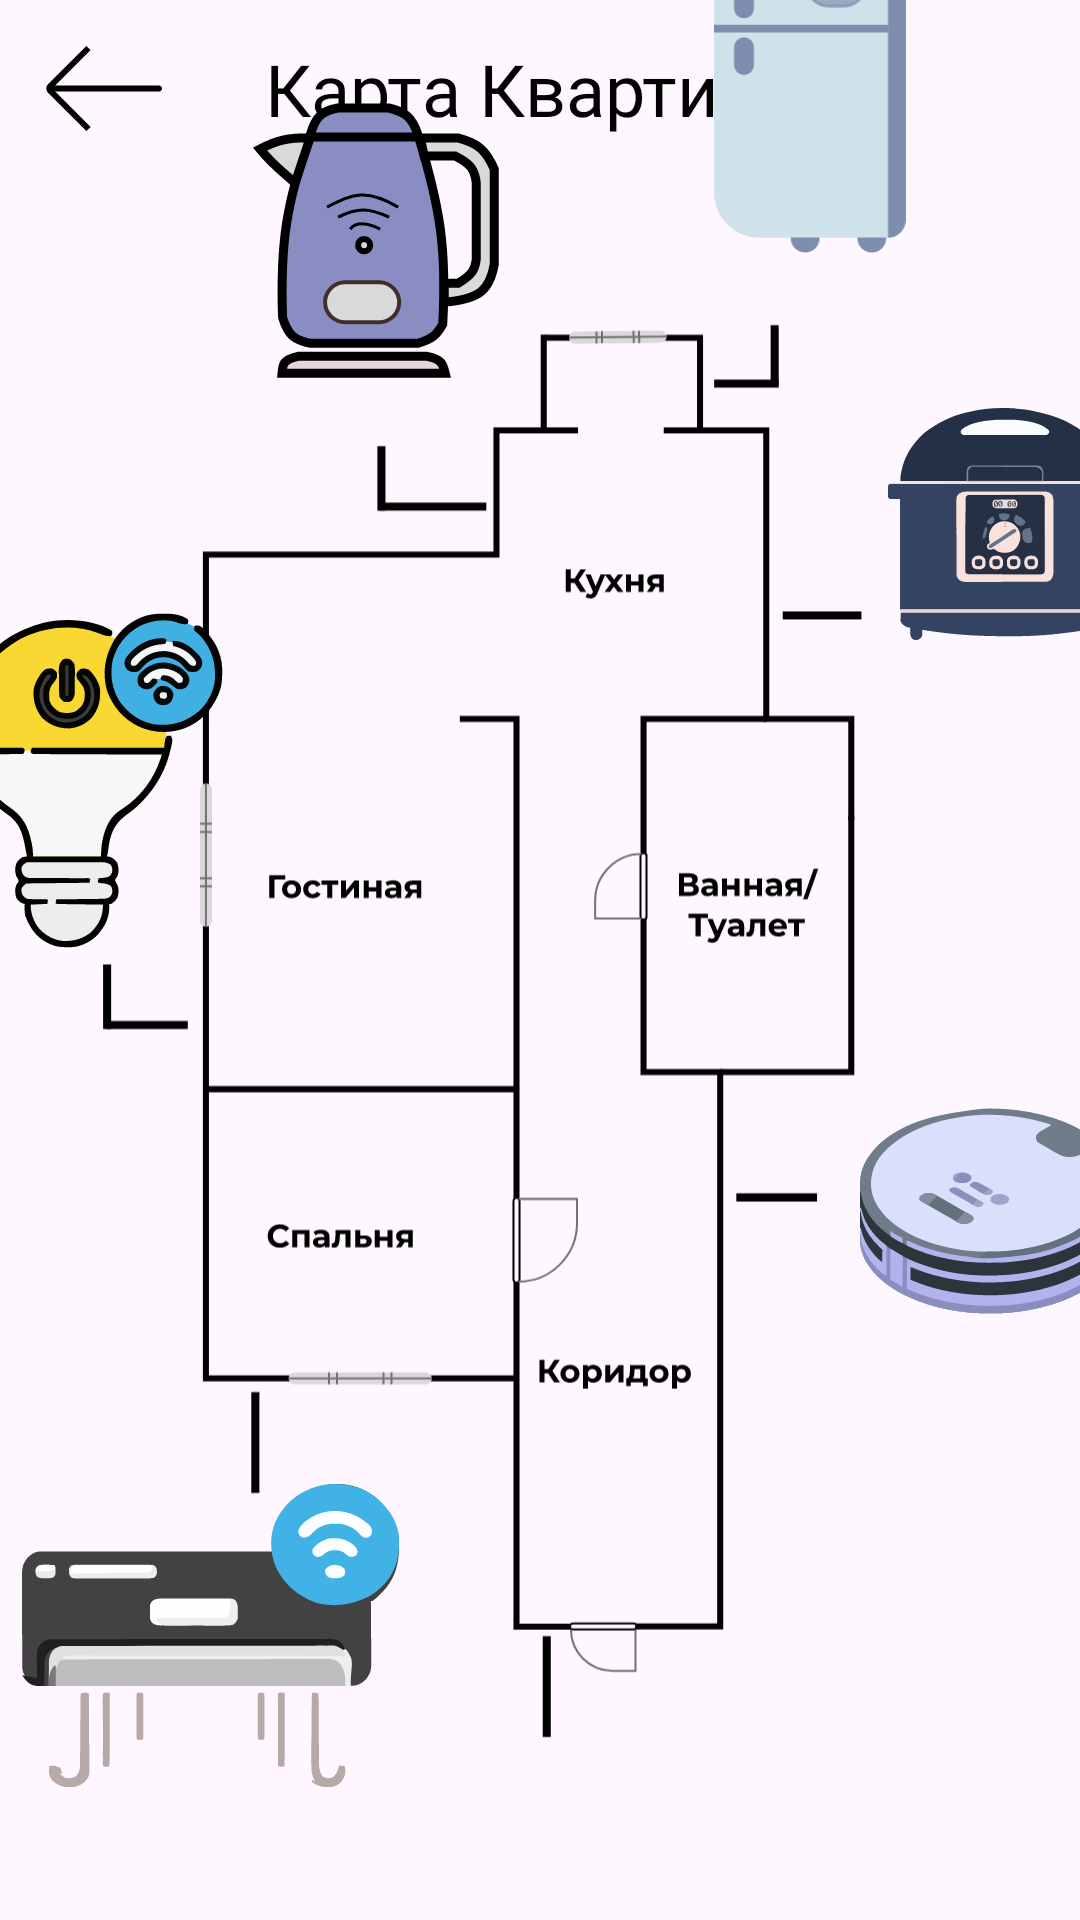

Where to tap for icons on this 1080px x 1920px app screen, as [x,y]:
backbutton: [104,88]
teapotmap: [376,240]
